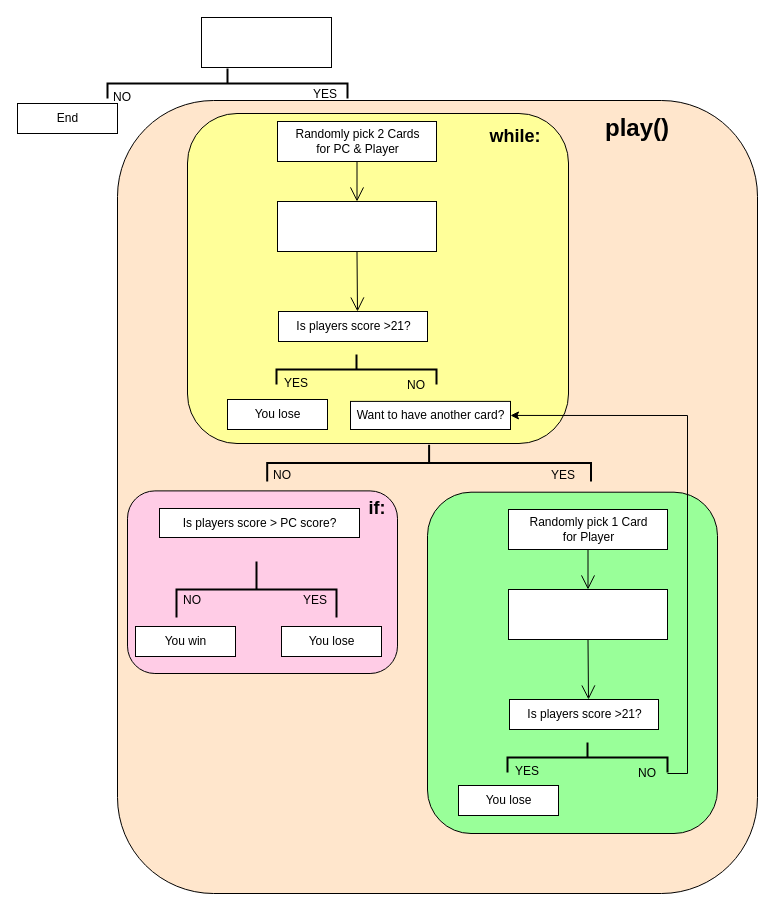
The diagram is 775 pixels wide and 911 high, and some of its shapes have lost their labels. Each missing label, with the centre of its shape:
"Display player's 2 card + 1 card of PC & your score" belongs at pixel 356 226.
"Display player's 2 card + 1 new card & your new score" belongs at pixel 588 614.
"Do you want to play?" belongs at pixel 266 42.
